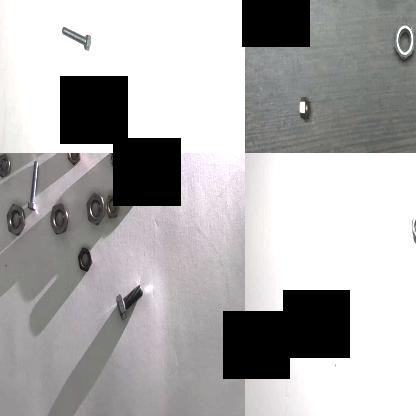Bolts: (113, 282, 142, 323), (59, 20, 92, 54), (27, 158, 41, 214)
NUTS: (393, 16, 416, 64), (46, 198, 68, 238), (5, 199, 25, 239), (85, 190, 104, 224), (296, 91, 310, 125), (104, 191, 119, 222), (77, 244, 91, 275), (148, 153, 163, 176), (408, 205, 416, 247), (0, 153, 11, 182), (109, 153, 125, 172), (66, 153, 80, 167)
